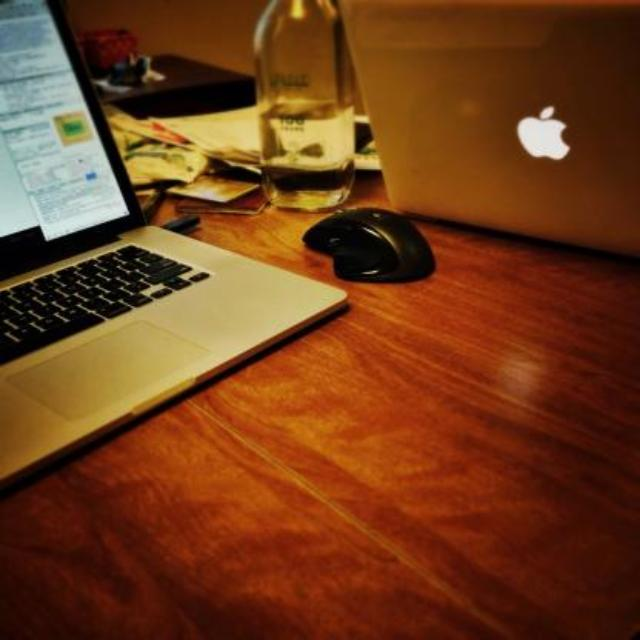Computer-Mouse: (297, 190, 443, 300)
Laptop: (0, 0, 348, 488)
